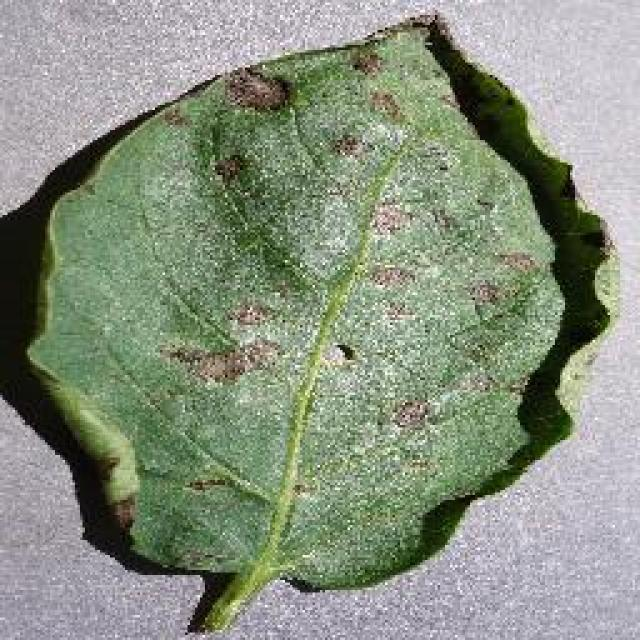early_blight: (20, 7, 622, 635)
